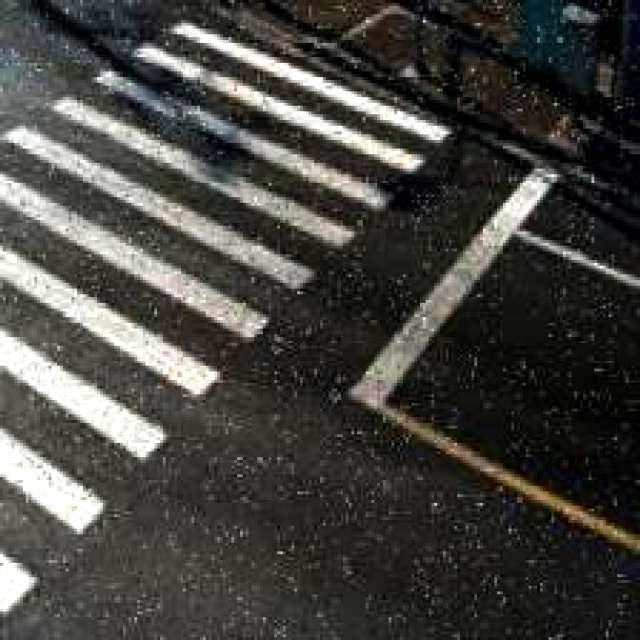crosswalk: (1, 50, 421, 627)
